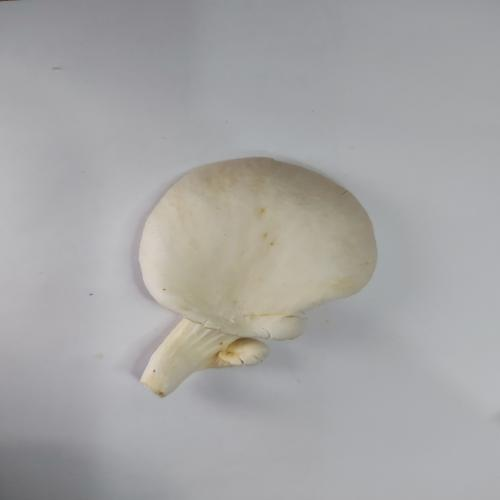Oyster Mushroom: (136, 155, 378, 398)
